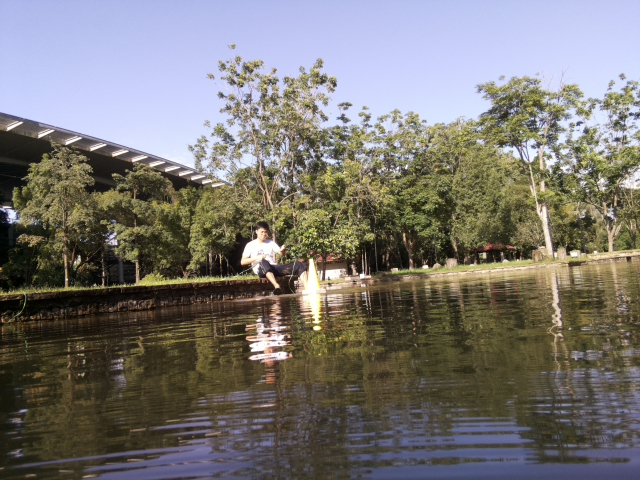checkpoint: (302, 258, 326, 294)
